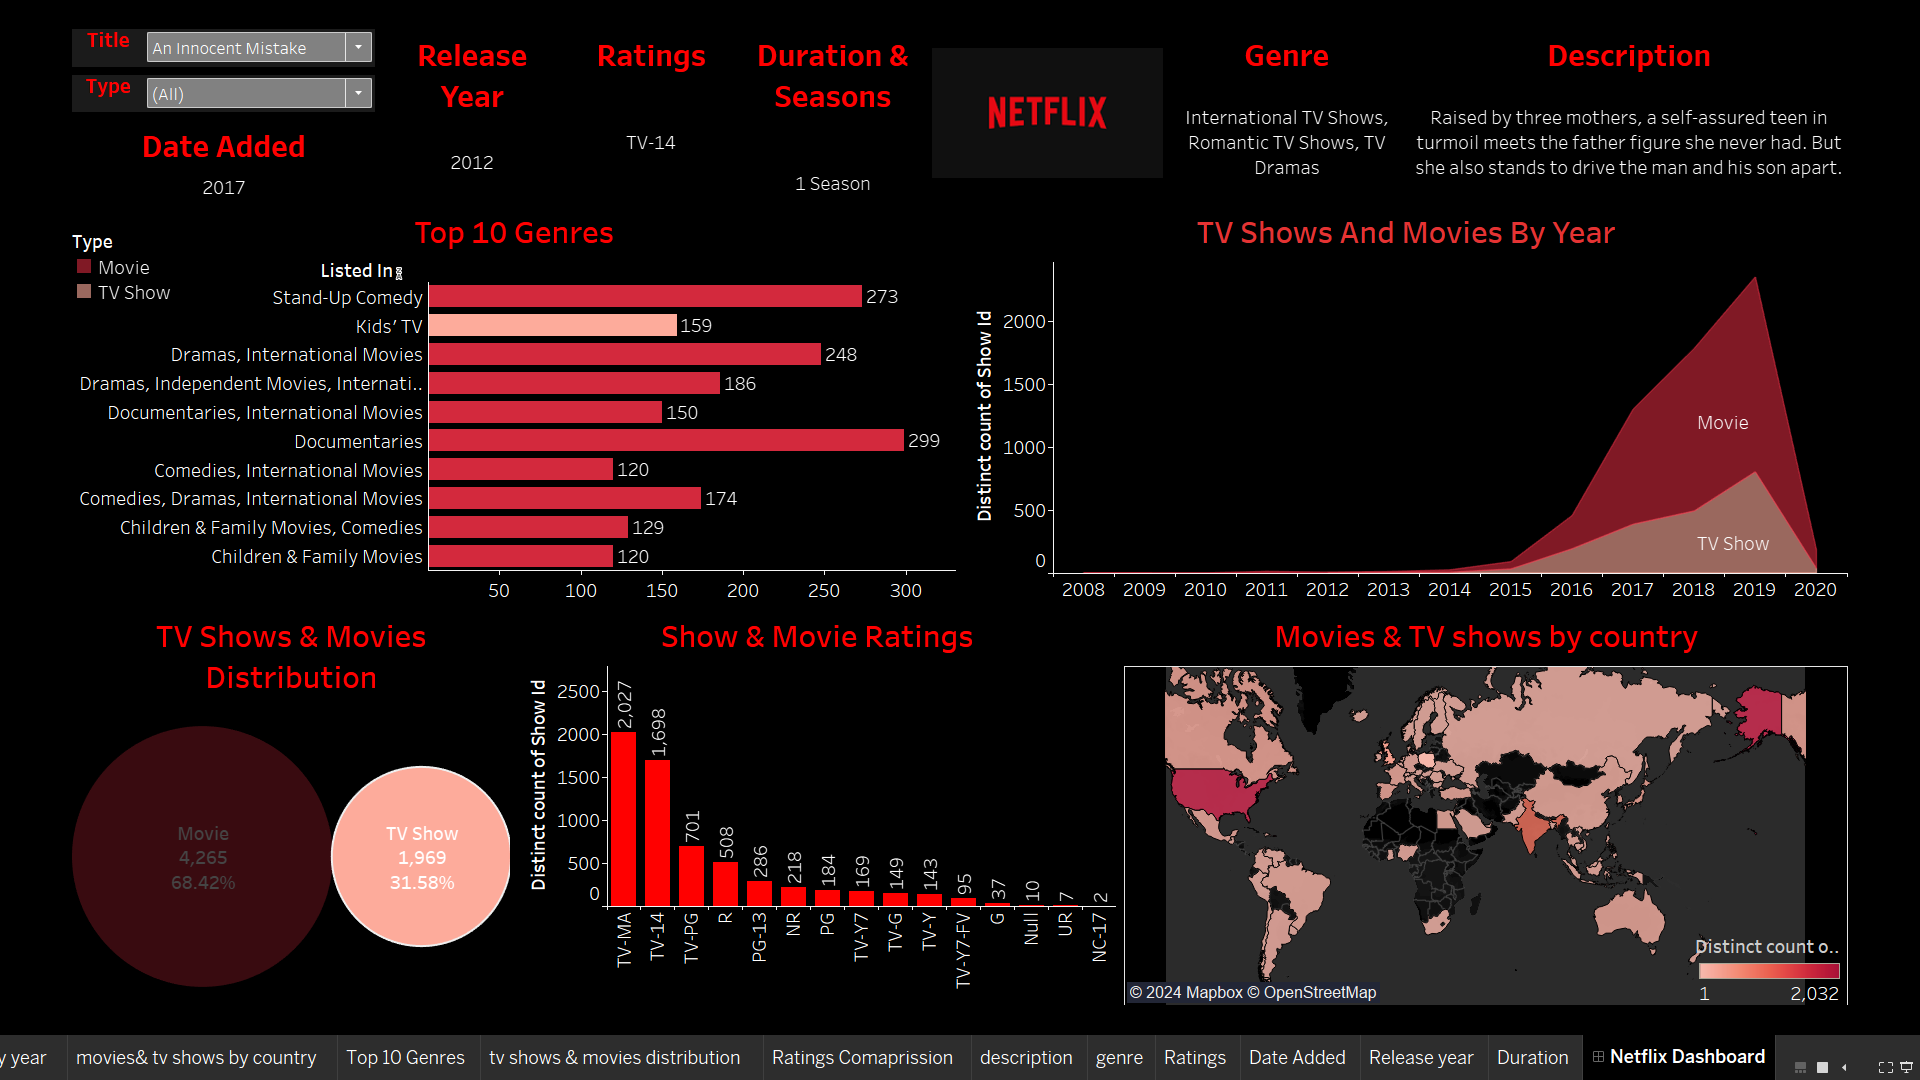

The page's visual inventory and layout, read from the dashboard file:
{"tool":"tableau","page":{"name":"Netflix Dashboard","canvas":[1800,1000],"ordinal":0},"visuals":[{"type":"filter","title":"description","param":"[federated.12hze8i0mx3f491b2pxn307smw26].[none:title:nk]","box":[8,8,311,45.5]},{"type":"worksheet","title":"Release year","mark":"Automatic","box":[319,8,186,177]},{"type":"worksheet","title":"Ratings","mark":"Automatic","box":[505,8,172,177]},{"type":"worksheet","title":"Duration","mark":"Automatic","box":[677,8,191,177]},{"type":"image","param":"C:/Users/TUSHAR PAREEK/Downloads/download.png","box":[868,8,239,177]},{"type":"worksheet","title":"genre","mark":"Automatic","box":[1107,8,239,177]},{"type":"worksheet","title":"description","mark":"Automatic","box":[1346,8,446,177]},{"type":"filter","title":"description","param":"[federated.12hze8i0mx3f491b2pxn307smw26].[none:type:nk]","box":[8,53.5,311,45.5]},{"type":"worksheet","title":"Date Added","mark":"Automatic","box":[8,99,311,86]},{"type":"worksheet","title":"Top 10 Genres","mark":"Automatic","rows":["listed_in"],"cols":["show_id"],"box":[8,185,892,403.5]},{"type":"worksheet","title":"movie and tv shows by year","mark":"Area","rows":["show_id"],"cols":["date_added"],"box":[900,185,892,403.5]},{"type":"legend","title":"movie and tv shows by year","param":"[federated.12hze8i0mx3f491b2pxn307smw26].[none:type:nk]","box":[12,211,167,78]},{"type":"worksheet","title":"tv shows & movies distribution","mark":"Circle","box":[8,588.5,446,403.5]},{"type":"worksheet","title":"Ratings Comaprission","mark":"Automatic","rows":["show_id"],"cols":["rating"],"box":[454,588.5,606.4,403.5]},{"type":"worksheet","title":"movies& tv shows by country","mark":"Multipolygon","box":[1060.4,588.5,731.6,403.5]},{"type":"legend","title":"movies& tv shows by country","param":"[federated.12hze8i0mx3f491b2pxn307smw26].[ctd:show_id:qk]","box":[1635,916,149,75]}]}

Visuals, with their boxes on the page's 1800x1000 design canvas (x1, y1, x2, y2). These are canvas units, not pixel positions in the 1920x1080 screenshot, which may show the page scaled, cropped or inside an application window:
"description" filter: x1=8 y1=8 x2=319 y2=54
"Release year" worksheet: x1=319 y1=8 x2=505 y2=185
"Ratings" worksheet: x1=505 y1=8 x2=677 y2=185
"Duration" worksheet: x1=677 y1=8 x2=868 y2=185
image: x1=868 y1=8 x2=1107 y2=185
"genre" worksheet: x1=1107 y1=8 x2=1346 y2=185
"description" worksheet: x1=1346 y1=8 x2=1792 y2=185
"description" filter: x1=8 y1=54 x2=319 y2=99
"Date Added" worksheet: x1=8 y1=99 x2=319 y2=185
"Top 10 Genres" worksheet: x1=8 y1=185 x2=900 y2=588
"movie and tv shows by year" worksheet (Area marks): x1=900 y1=185 x2=1792 y2=588
"movie and tv shows by year" legend: x1=12 y1=211 x2=179 y2=289
"tv shows & movies distribution" worksheet (Circle marks): x1=8 y1=588 x2=454 y2=992
"Ratings Comaprission" worksheet: x1=454 y1=588 x2=1060 y2=992
"movies& tv shows by country" worksheet (Multipolygon marks): x1=1060 y1=588 x2=1792 y2=992
"movies& tv shows by country" legend: x1=1635 y1=916 x2=1784 y2=991
